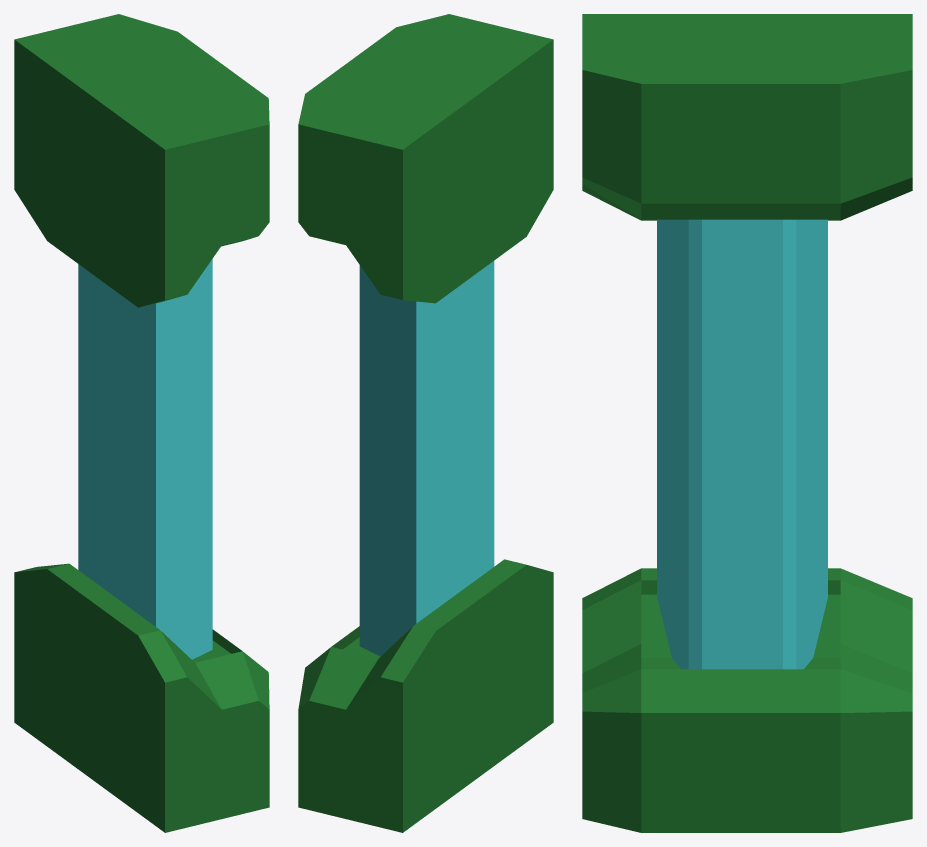
The model's file is SM_Gate_Small.fbx.
3 views of the same model, side by side, from view 1: azimuth 30°, elevation 25°; view 2: azimuth 150°, elevation 25°; view 3: azimuth 270°, elevation 25° (orthographic). The views are drawn at different scales.
Parts seen in each view (by area): view 1: SM_Gate_Small:Barrier_Base_Top, SM_Gate_Small:Barrier_Base_Btm, SM_Gate_Small:Box002; view 2: SM_Gate_Small:Barrier_Base_Top, SM_Gate_Small:Barrier_Base_Btm, SM_Gate_Small:Box002; view 3: SM_Gate_Small:Box002, SM_Gate_Small:Barrier_Base_Btm, SM_Gate_Small:Barrier_Base_Top.
Boxes of the visible parts, left/top/right/bottom form: SM_Gate_Small:Barrier_Base_Top: left=14, top=14, right=269, bottom=307; SM_Gate_Small:Barrier_Base_Btm: left=14, top=563, right=269, bottom=832; SM_Gate_Small:Box002: left=78, top=259, right=212, bottom=659; SM_Gate_Small:Barrier_Base_Top: left=298, top=14, right=553, bottom=303; SM_Gate_Small:Barrier_Base_Btm: left=298, top=559, right=553, bottom=832; SM_Gate_Small:Box002: left=359, top=261, right=494, bottom=656; SM_Gate_Small:Box002: left=657, top=219, right=827, bottom=669; SM_Gate_Small:Barrier_Base_Btm: left=582, top=568, right=912, bottom=832; SM_Gate_Small:Barrier_Base_Top: left=582, top=14, right=912, bottom=220.
Bounding box in the file's own units: 10 × 50 × 20.
